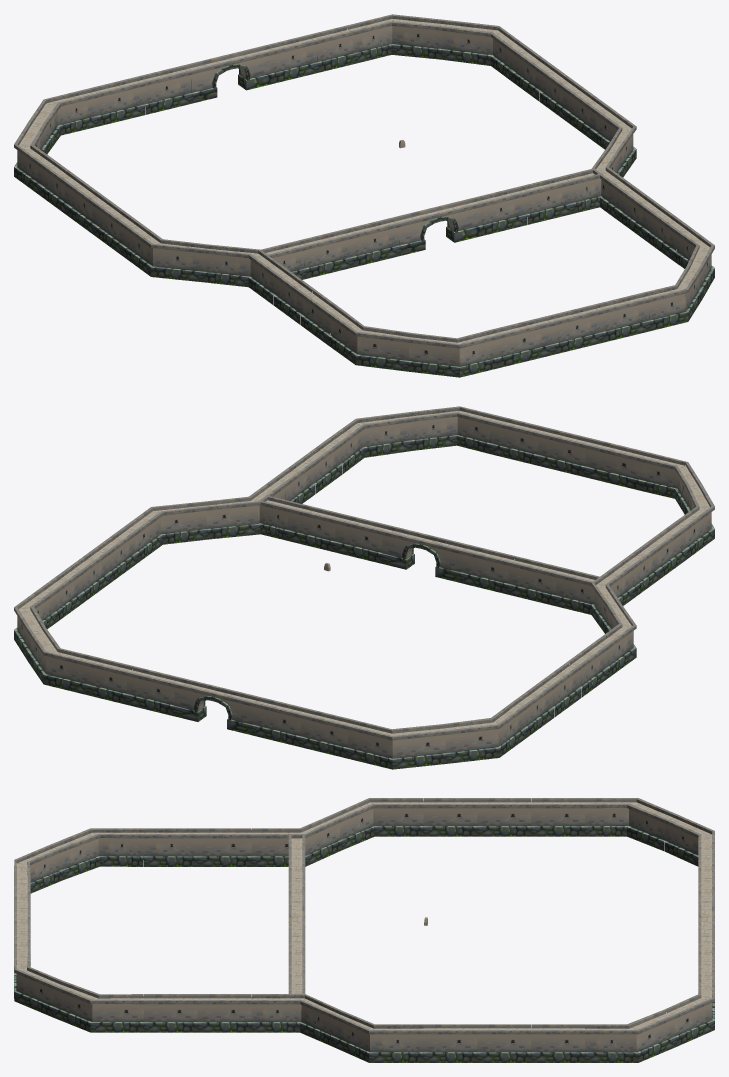
File: xingchengqiang1.FBX
3 renders of one model, top to bottom at view 1: azimuth 30°, elevation 25°; view 2: azimuth 150°, elevation 25°; view 3: azimuth 270°, elevation 25°, orthographic.
Parts seen in each view (by area): view 1: Object047, Object048, Object030, Object040, Object017, Object057, Object046, Object051, Object042, Object053, Object018, Object043 (+17 smaller); view 2: Object040, Object017, Object057, Object047, Object048, Object030, Object051, Object046, Object042, Object052, Object044, Object018 (+17 smaller); view 3: Object040, Object047, Object057, Object030, Object048, Object017, Object006, Object010, Object031, Object035, Object005, Object009 (+5 smaller).
Part boxes in pixels (x1=…): Object047: x1=301, y1=289, x2=497, y2=377; Object048: x1=346, y1=14, x2=526, y2=81; Object030: x1=123, y1=221, x2=287, y2=304; Object040: x1=642, y1=205, x2=714, y2=330; Object017: x1=14, y1=88, x2=97, y2=196; Object057: x1=591, y1=106, x2=636, y2=220; Object046: x1=184, y1=46, x2=271, y2=103; Object051: x1=393, y1=198, x2=479, y2=255; Object042: x1=489, y1=316, x2=555, y2=368; Object053: x1=298, y1=229, x2=353, y2=278; Object018: x1=90, y1=76, x2=145, y2=126; Object043: x1=548, y1=304, x2=603, y2=353; Object040: x1=301, y1=406, x2=497, y2=493; Object017: x1=346, y1=702, x2=526, y2=769; Object057: x1=124, y1=478, x2=287, y2=562; Object047: x1=642, y1=453, x2=714, y2=577; Object048: x1=14, y1=587, x2=97, y2=695; Object030: x1=591, y1=563, x2=636, y2=677; Object051: x1=381, y1=525, x2=467, y2=582; Object046: x1=173, y1=677, x2=259, y2=734; Object042: x1=584, y1=438, x2=650, y2=490; Object052: x1=459, y1=544, x2=515, y2=594; Object044: x1=489, y1=415, x2=544, y2=465; Object018: x1=299, y1=708, x2=354, y2=758; Object040: x1=14, y1=951, x2=197, y2=1032; Object047: x1=14, y1=828, x2=197, y2=893; Object057: x1=251, y1=994, x2=423, y2=1062; Object030: x1=251, y1=798, x2=423, y2=866; Object048: x1=585, y1=976, x2=714, y2=1062; Object017: x1=585, y1=798, x2=714, y2=866; Object006: x1=423, y1=1024, x2=477, y2=1062; Object010: x1=423, y1=798, x2=477, y2=836; Object031: x1=197, y1=828, x2=251, y2=866; Object035: x1=197, y1=994, x2=251, y2=1032; Object005: x1=477, y1=1024, x2=531, y2=1062; Object009: x1=477, y1=798, x2=531, y2=836.
Size of the model in its own units: 619 by 57.1 by 786.
